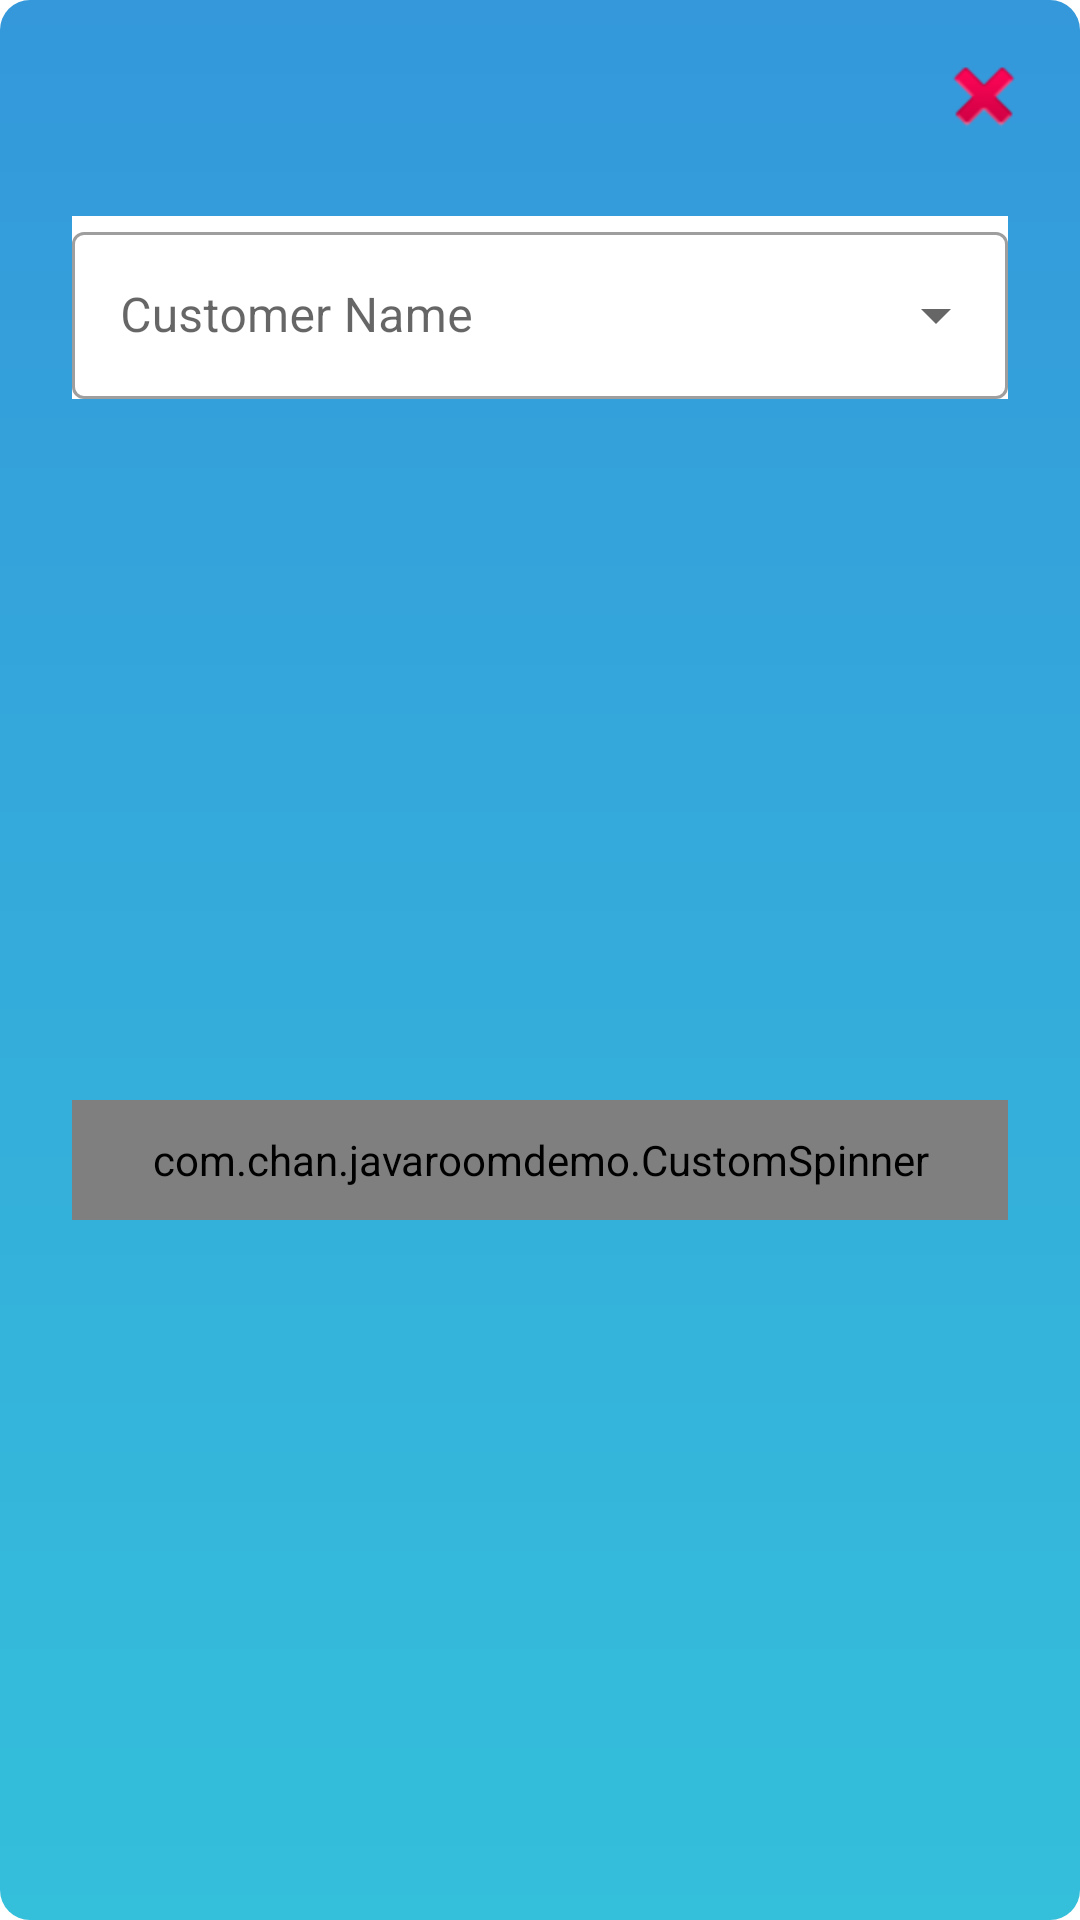

Icon bounding boxes for this 1080×1920 phone screenshot, format (x1, y1, x2, y2):
delete: (954, 67, 1014, 126)
